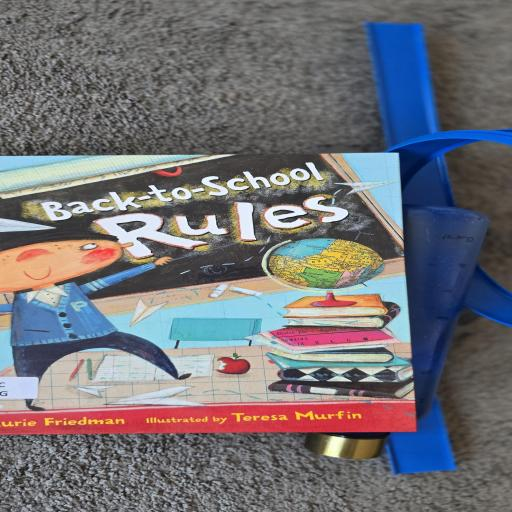bottle: (418, 208, 459, 364), (302, 432, 388, 464)
